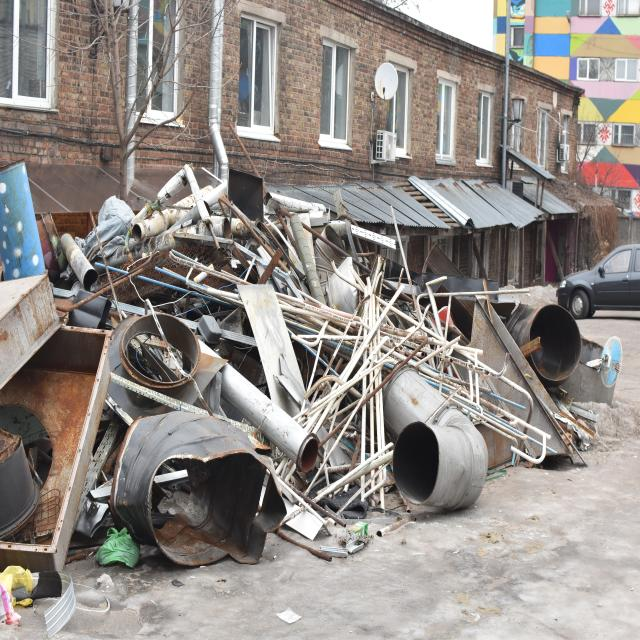entulho: (47, 160, 235, 343), (98, 402, 285, 568), (1, 317, 116, 580), (282, 284, 442, 469), (367, 360, 492, 522), (200, 337, 318, 481), (258, 207, 374, 334), (0, 263, 62, 409), (508, 288, 582, 402), (0, 152, 50, 292), (0, 564, 82, 640), (283, 493, 369, 558), (394, 270, 504, 320), (218, 163, 279, 232), (587, 324, 625, 398), (96, 525, 142, 568)
